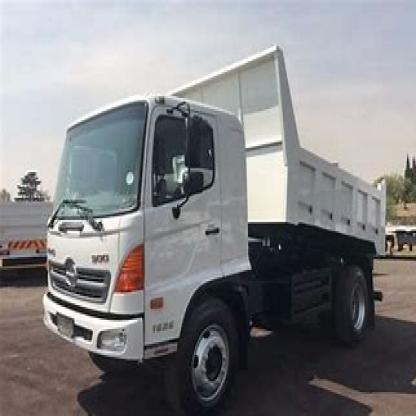dump_truck: (37, 43, 396, 410)
